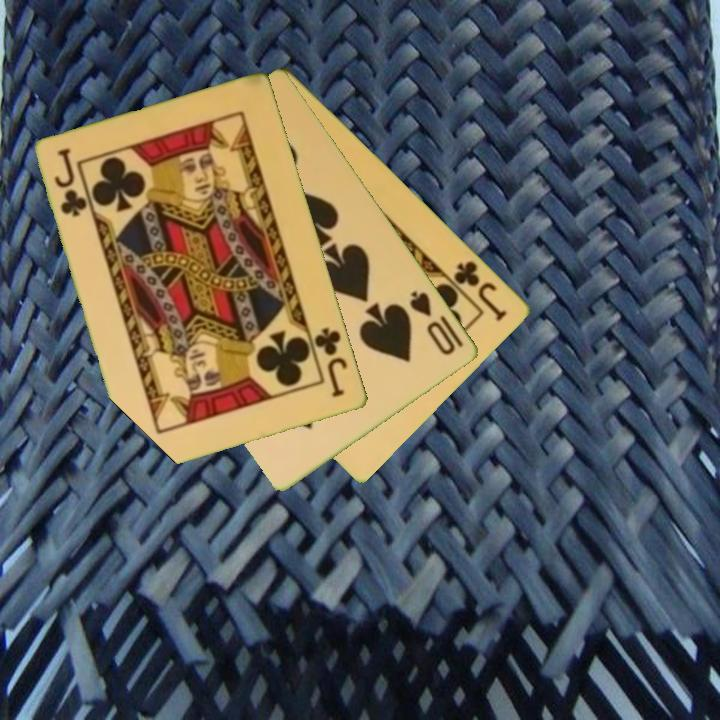10s: (406, 287, 467, 359)
Jc: (450, 257, 511, 325), (311, 324, 351, 401), (51, 144, 90, 220)
